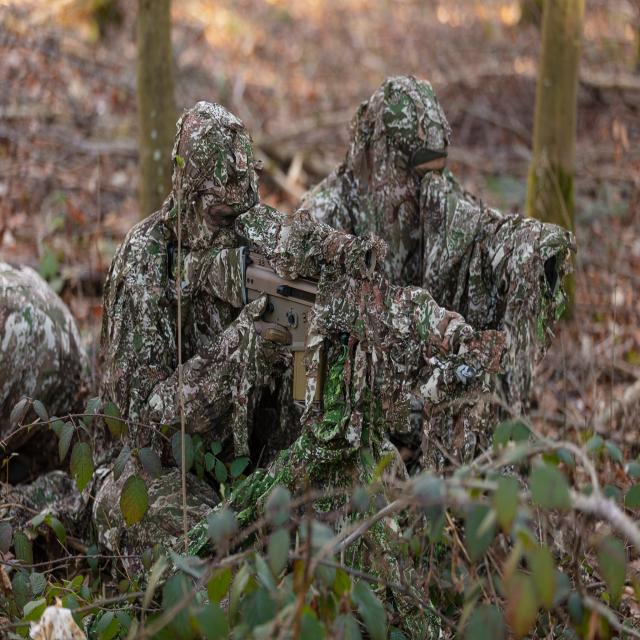Human: (94, 97, 490, 613), (289, 73, 582, 443)
